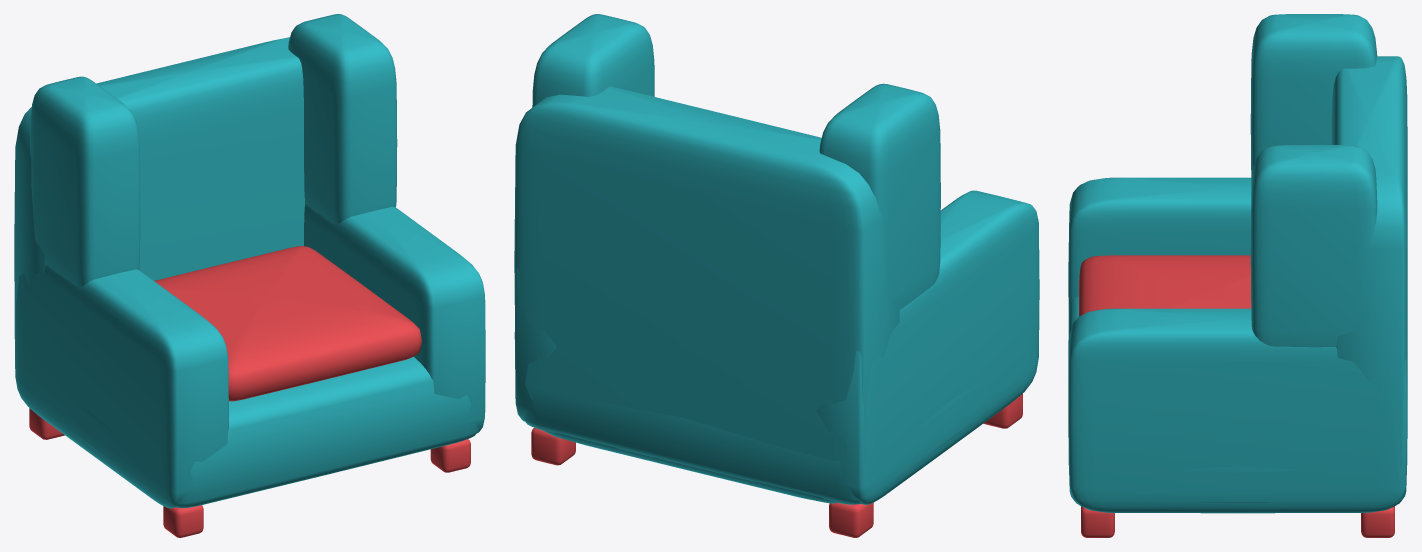
Rendered from poltrona_orelha_turquesa.glb.
3 renders of one model, left to right at view 1: azimuth 30°, elevation 25°; view 2: azimuth 150°, elevation 25°; view 3: azimuth 270°, elevation 25°, orthographic. The views are drawn at different scales.
Visible parts, largest first — view 1: poltrona_orelha_turquesa; view 2: poltrona_orelha_turquesa; view 3: poltrona_orelha_turquesa.
Part boxes in pixels (box(x1,y1,x2,y2)): poltrona_orelha_turquesa: box(14, 14, 485, 537); poltrona_orelha_turquesa: box(514, 14, 1039, 537); poltrona_orelha_turquesa: box(1068, 14, 1407, 537).
Bounding box in the file's own units: 0.9 × 0.98 × 0.8.
Materials: 1 (1 with a texture image).
